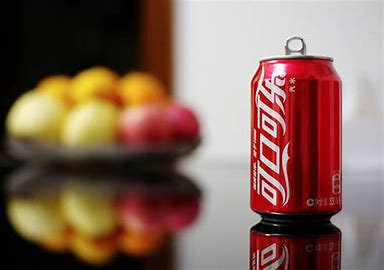Coke: (249, 35, 345, 229)
